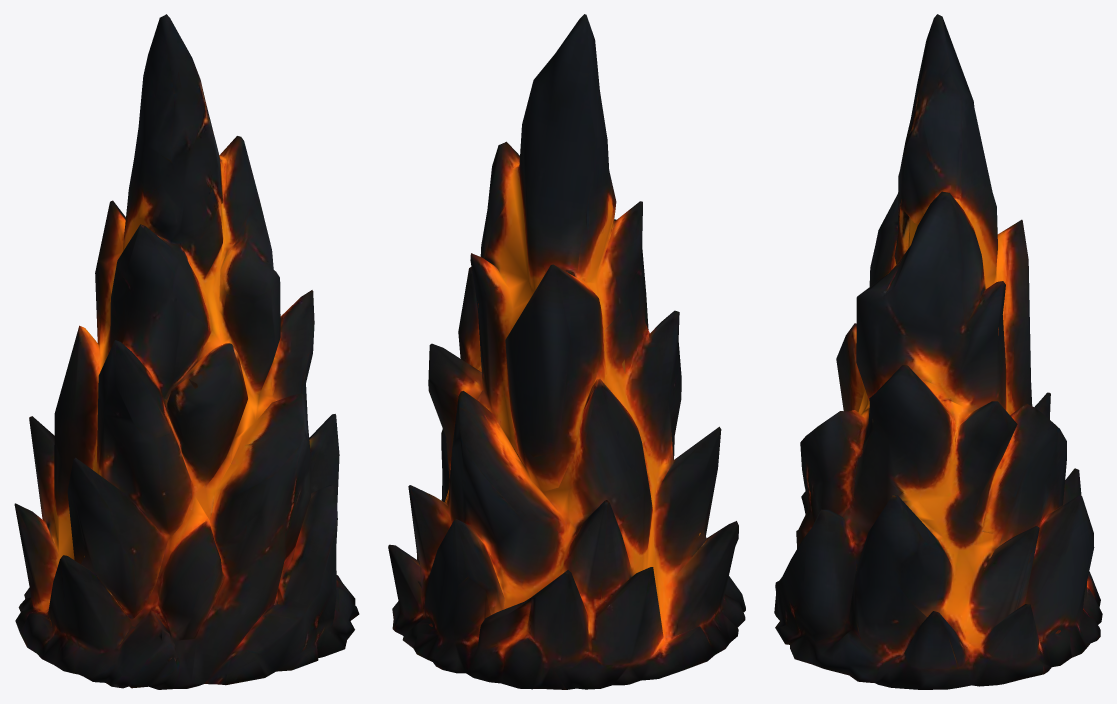
Rendered from lavaspike1.opt.glb.
3 views of the same model, side by side, from view 1: azimuth 30°, elevation 25°; view 2: azimuth 150°, elevation 25°; view 3: azimuth 270°, elevation 25° (orthographic). The views are drawn at different scales.
Parts seen in each view (by area): view 1: node_0; view 2: node_0; view 3: node_0.
Boxes of the visible parts, box(x1,y1,x2,y2) form: node_0: box(14, 14, 359, 689); node_0: box(388, 14, 745, 689); node_0: box(774, 14, 1102, 689).
Size of the model in its own units: 0.5499 by 1.06 by 0.5289.
1 material, 1 textured.
